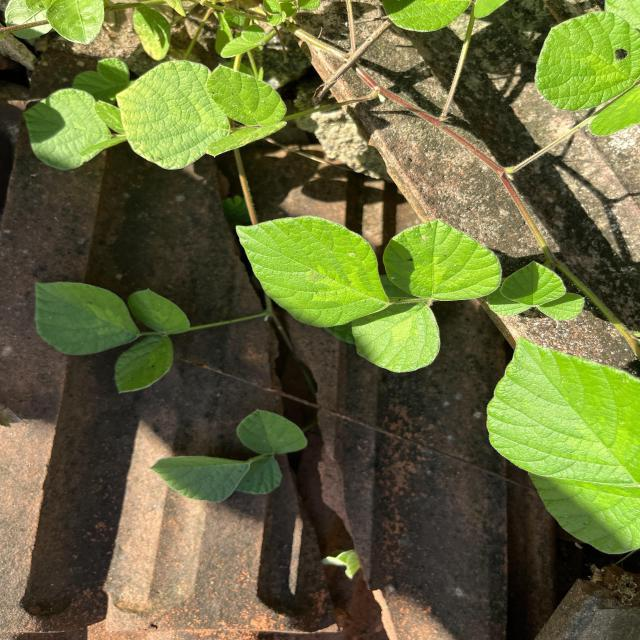Pseudarthria viscida: (233, 214, 504, 374), (32, 280, 192, 394), (486, 260, 586, 322)
